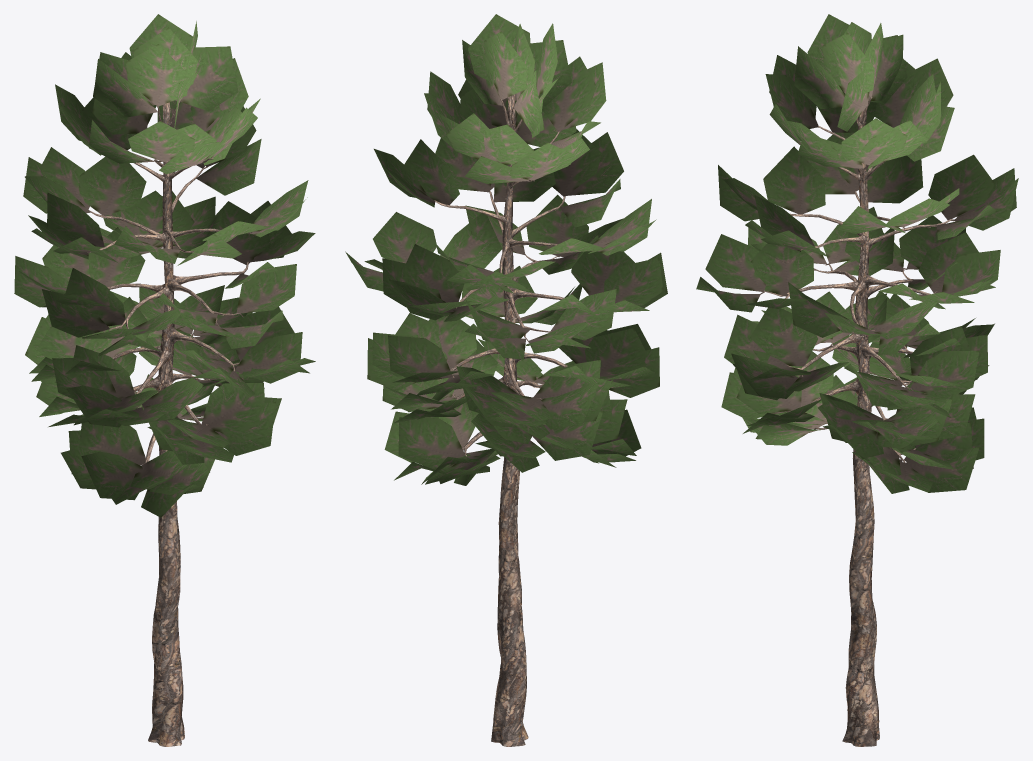
File: Tree1.obj
3 renders of one model, left to right at view 1: azimuth 30°, elevation 25°; view 2: azimuth 150°, elevation 25°; view 3: azimuth 270°, elevation 25°, orthographic.
Parts seen in each view (by area): view 1: pine branch, bark09; view 2: pine branch, bark09; view 3: pine branch, bark09.
Part boxes in pixels (x1,y1,x2,y2): pine branch: (14, 14, 315, 517); bark09: (88, 100, 252, 746); pine branch: (345, 14, 667, 485); bark09: (434, 94, 598, 746); pine branch: (696, 14, 1018, 493); bark09: (760, 97, 955, 746).
Bounding box in the file's own units: 218 × 532 × 217.
2 materials, 2 textured.
